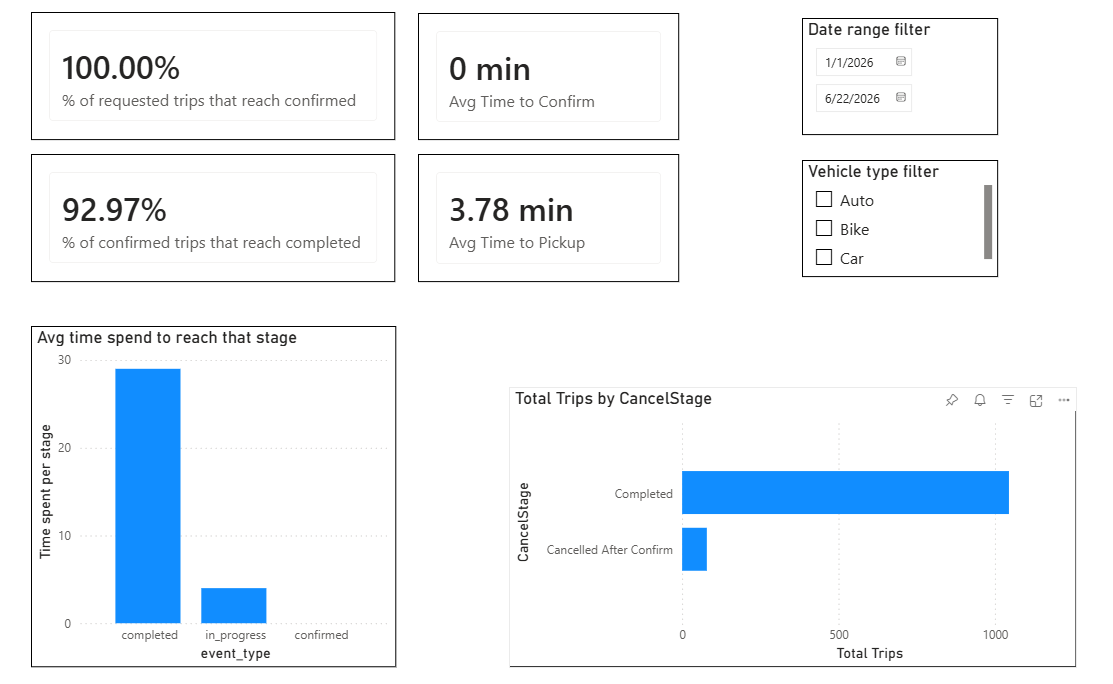

The dashboard page shown, as its layout file describes it:
{"tool":"powerbi","page":{"name":"Trip Funnel & Operations","canvas":[1280,720],"ordinal":1},"visuals":[{"type":"cardVisual","fields":{"Data":["fact_trip_funnel.% of requested trips that reach confirmed"]},"box":[94.3,25.7,364.4,127.8],"z":0},{"type":"cardVisual","fields":{"Data":["fact_trip_funnel.% of confirmed trips that reach completed"]},"box":[94.3,167.9,364.4,127.8],"z":1000},{"type":"cardVisual","fields":{"Data":["fact_trip_funnel.Avg Time to Confirm"]},"box":[481,27,261,127],"z":2000},{"type":"cardVisual","fields":{"Data":["fact_trip_funnel.Avg Time to Pickup"]},"box":[481,168,261,128],"z":3000},{"type":"clusteredColumnChart","title":"Avg time spend to reach that stage","fields":{"Category":["fact_trip_funnel.event_type"],"Y":["fact_trip_funnel.Time spent per stage"]},"box":[94,340,365,341],"z":4000},{"type":"barChart","fields":{"Category":["fact_trips.CancelStage"],"Y":["fact_trips.Total Trips"]},"box":[572,401,567,280],"z":5000},{"type":"slicer","title":"Date range filter","fields":{"Values":["dim_date.full_date"]},"box":[864.3,32,195.8,116.9],"z":6000},{"type":"slicer","title":"Vehicle type filter","fields":{"Values":["dim_driver.vehicle_type"]},"box":[864.3,173.9,195.8,116.9],"z":7000}]}

Visuals, with their boxes on the page's 1280x720 design canvas (x1, y1, x2, y2). These are canvas units, not pixel positions in the 1113x684 screenshot, which may show the page scaled, cropped or inside an application window:
cardVisual - fact_trip_funnel.% of requested trips that reach confirmed: l=94, t=26, r=459, b=154
cardVisual - fact_trip_funnel.% of confirmed trips that reach completed: l=94, t=168, r=459, b=296
cardVisual - fact_trip_funnel.Avg Time to Confirm: l=481, t=27, r=742, b=154
cardVisual - fact_trip_funnel.Avg Time to Pickup: l=481, t=168, r=742, b=296
"Avg time spend to reach that stage" clusteredColumnChart: l=94, t=340, r=459, b=681
barChart - fact_trips.CancelStage x fact_trips.Total Trips: l=572, t=401, r=1139, b=681
"Date range filter" slicer: l=864, t=32, r=1060, b=149
"Vehicle type filter" slicer: l=864, t=174, r=1060, b=291
